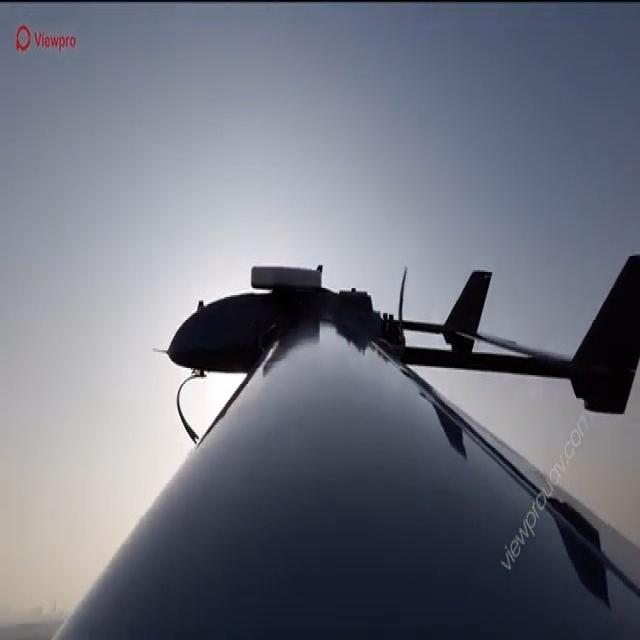drones: (155, 220, 640, 630)
